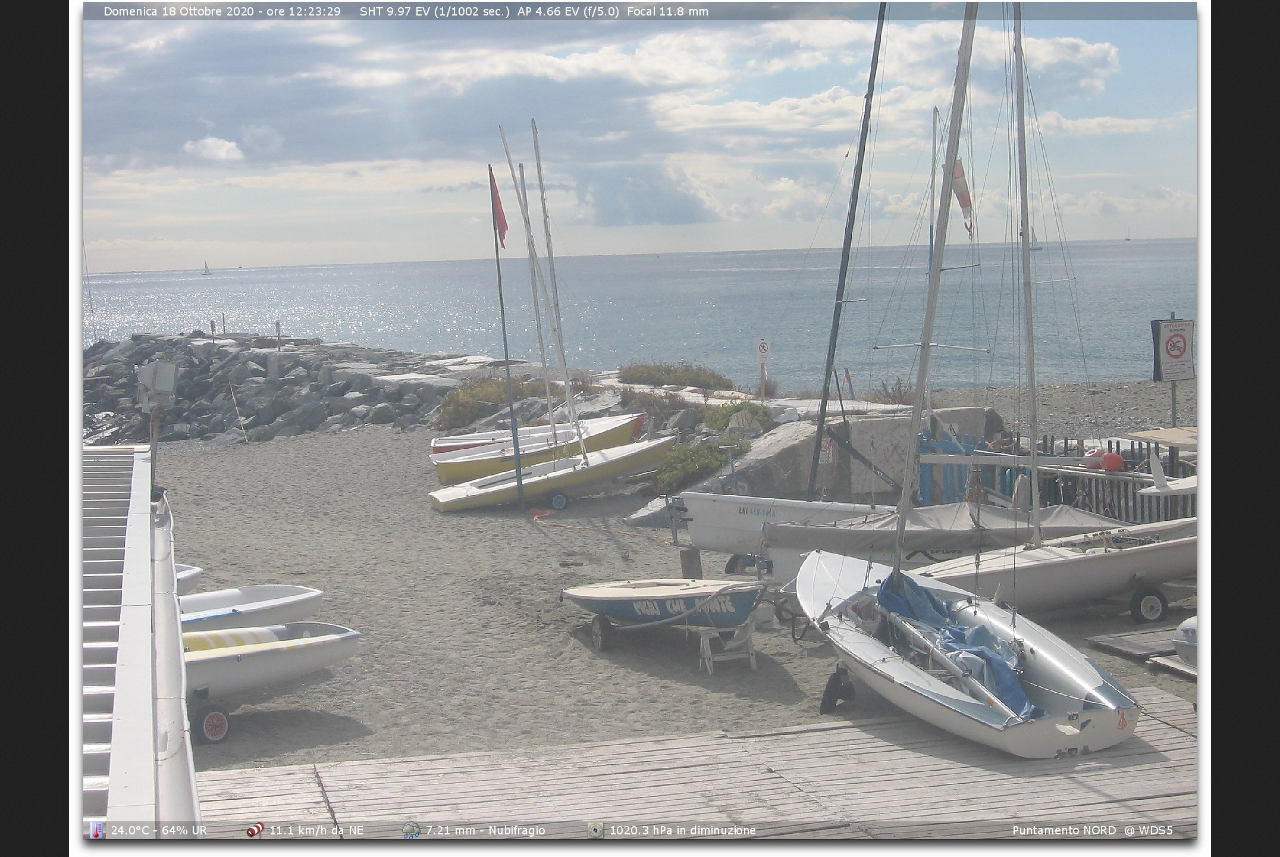no: (484, 170, 509, 243)
